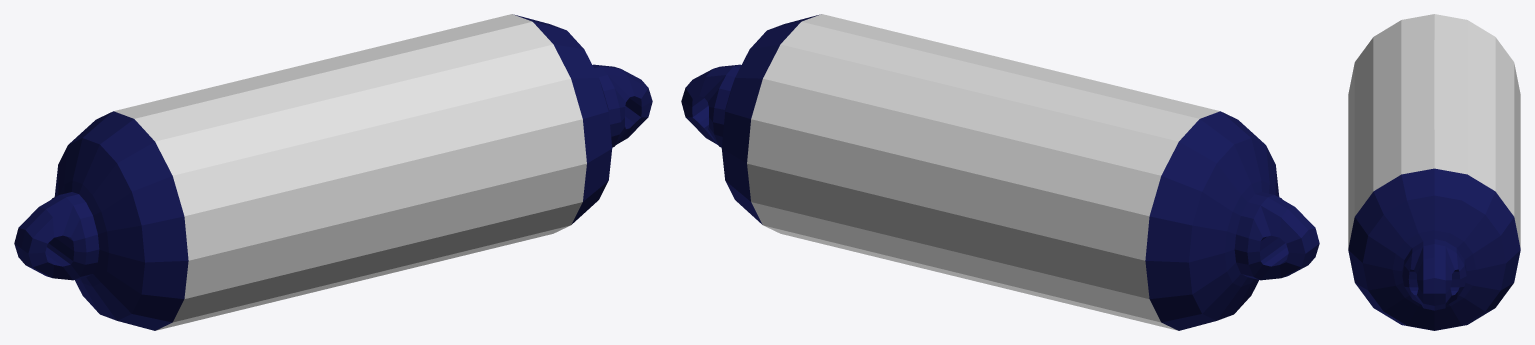
File: Harbour-Fender_Cylinder.fbx
3 views of the same model, side by side, from view 1: azimuth 30°, elevation 25°; view 2: azimuth 150°, elevation 25°; view 3: azimuth 270°, elevation 25° (orthographic). The views are drawn at different scales.
Parts seen in each view (by area): view 1: Fender; view 2: Fender; view 3: Fender.
Boxes of the visible parts, x1,y1,x2,y2 form: Fender: (14,14,652,330); Fender: (681,14,1319,330); Fender: (1348,14,1520,330).
Bounding box in the file's own units: 0.6201 × 0.194 × 0.1868.
